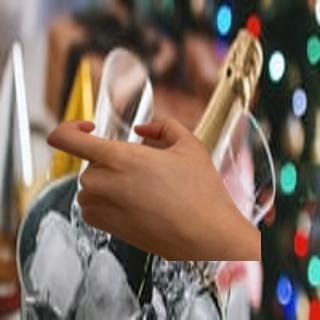HATE: (38, 109, 240, 255)
